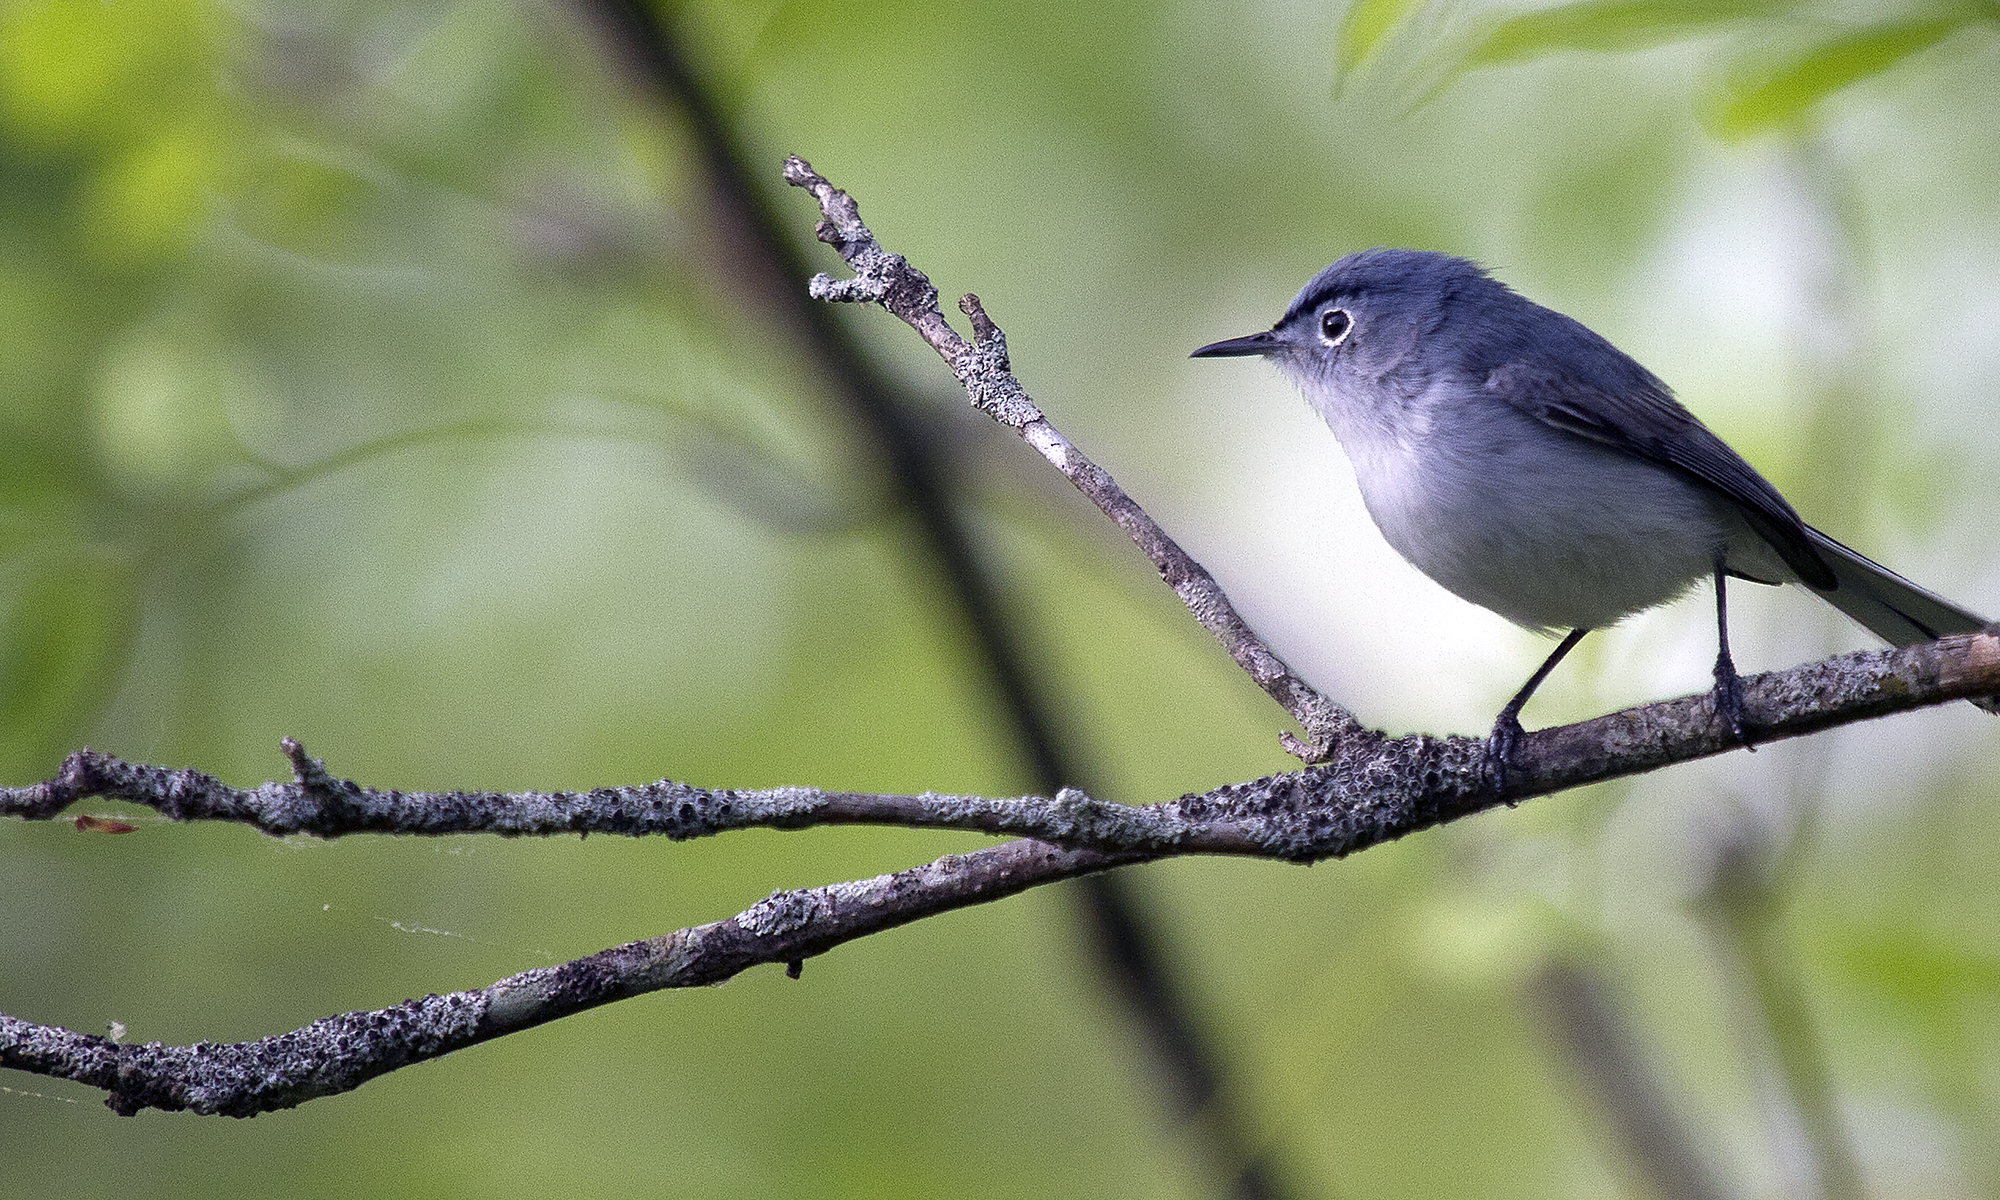bird: (1144, 223, 2000, 809)
